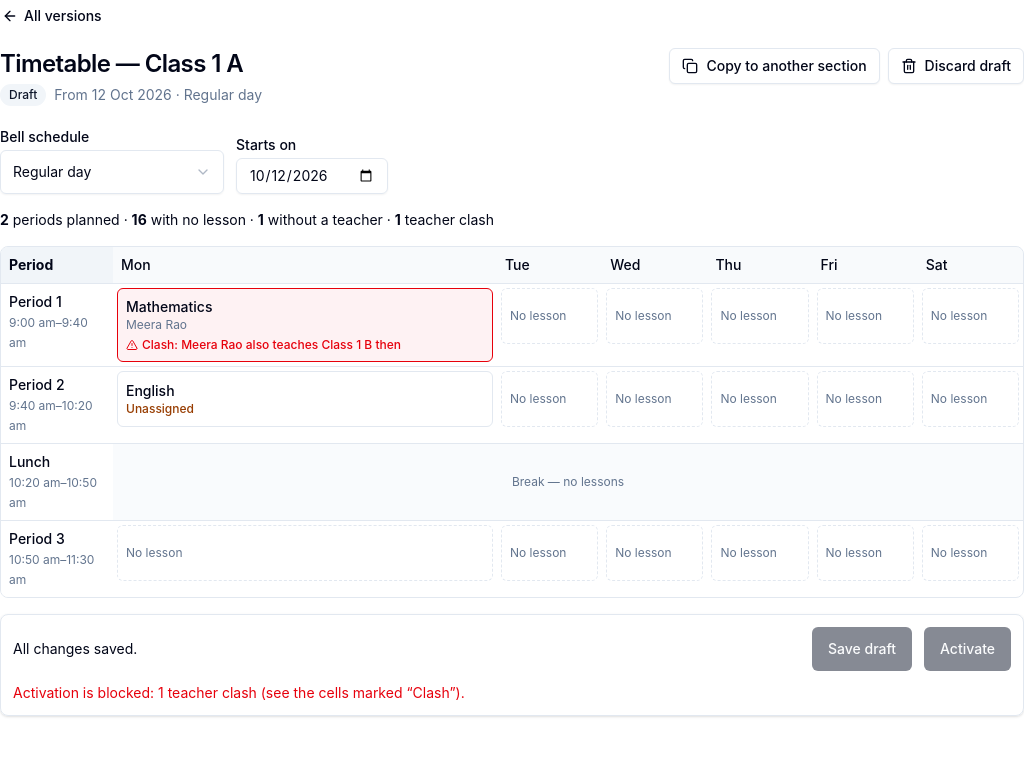
Test case: timetable grid editor › CONFLICT on save reloads the draft (the user redoes the change)
What coordinates should you click on to do the following:
click the button with aria-label "Monday, Period 2: English"
I would click on:
 (150, 390)
Its box is [117,371,493,427].
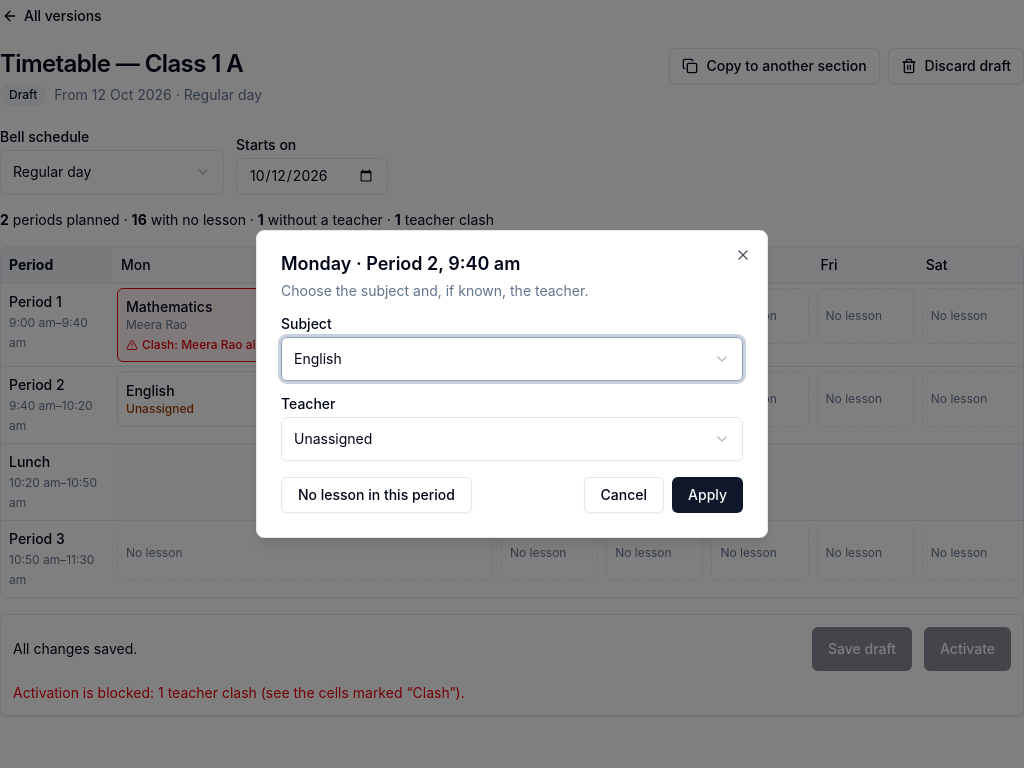
What coordinates should you click on to do the following:
click the button "No lesson in this period"
I would click on:
 (376, 495)
Its box is [281,477,472,513].
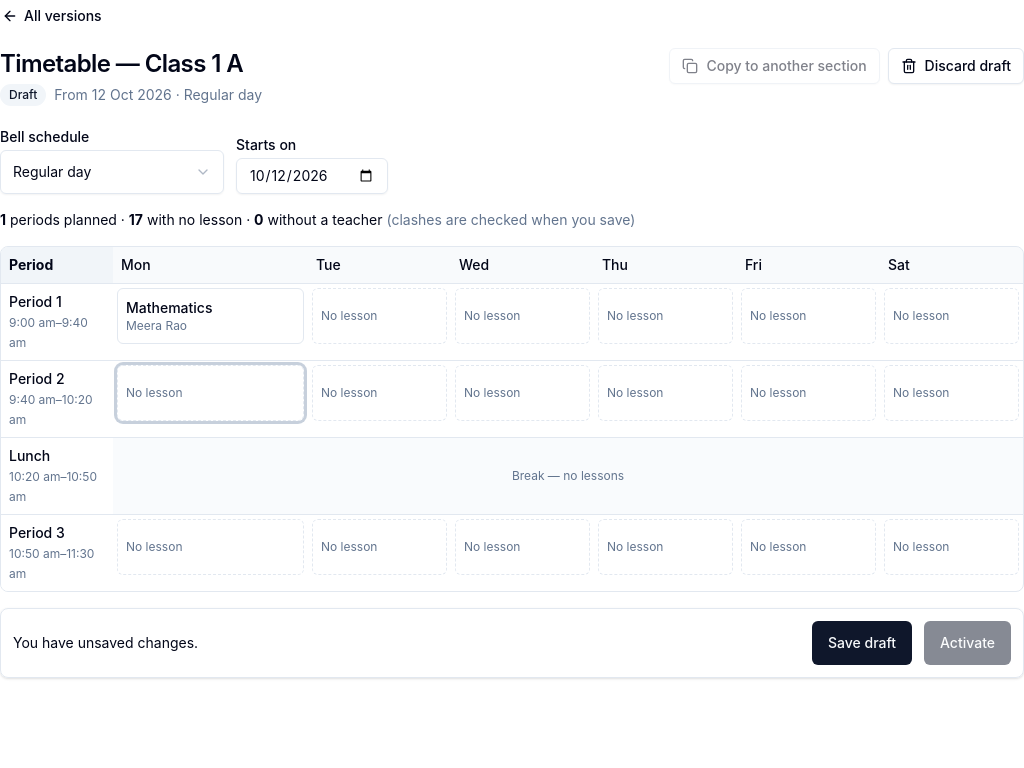
What coordinates should you click on to do the following:
click the button "Save draft"
I would click on:
 (862, 643)
Its box is [812,621,912,665].
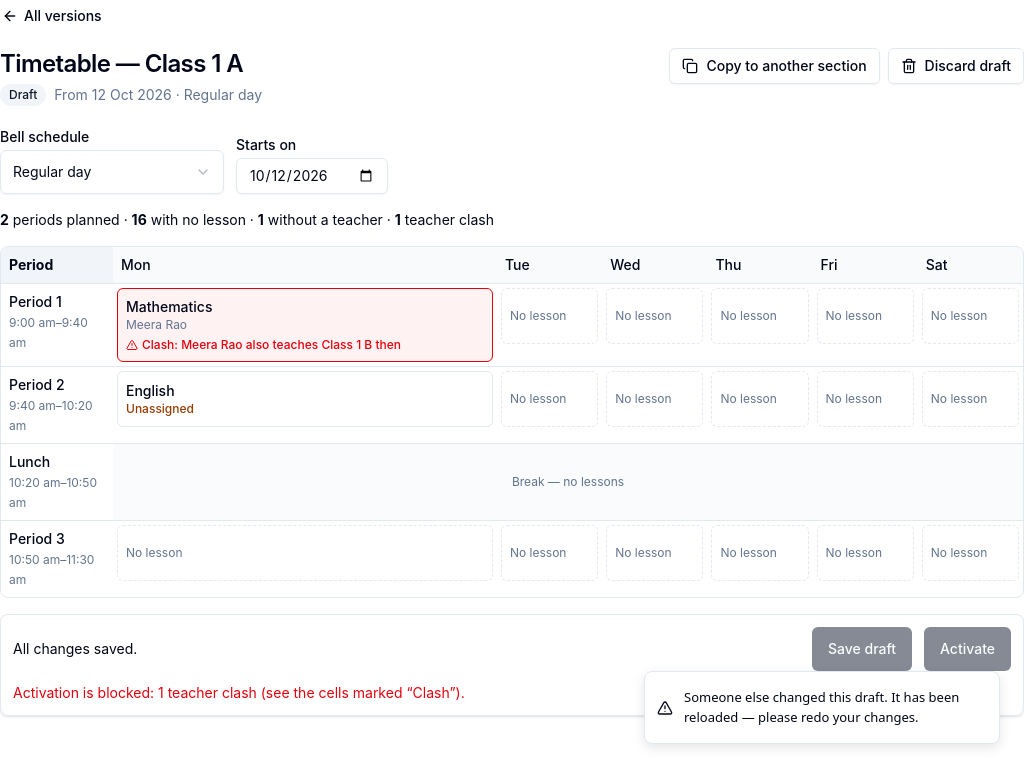
Check: the text "Someone else changed this draft. It has been reloaded" is shown, box [684,688,959,726]
Check: the button with aria-label "Monday, Period 2: English, unassigned" is shown, box [117,371,493,427]
